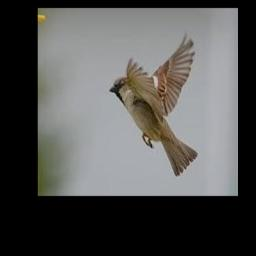Sparrow: (109, 32, 197, 176)
